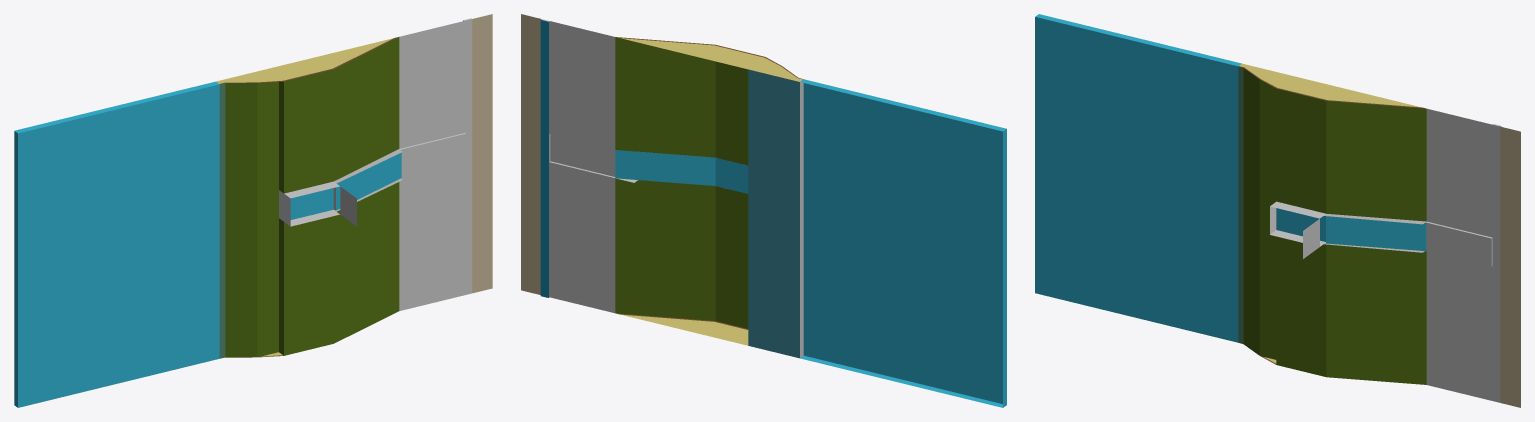
Rendered from ComCoast_During.obj.
The picture shows the model from 3 angles, left to right: view 1: azimuth 30°, elevation 25°; view 2: azimuth 150°, elevation 25°; view 3: azimuth 330°, elevation 25°; orthographic projection.
Visible parts, largest first — view 1: obj64, obj37, obj20, obj54, obj41, obj38, obj52, obj32, obj14, obj55, obj19, obj40 (+10 smaller); view 2: obj64, obj10, obj54, obj41, obj20, obj38, obj14, obj52, obj55, obj15, obj42, obj75 (+8 smaller); view 3: obj64, obj54, obj41, obj20, obj38, obj52, obj14, obj55, obj32, obj37, obj89, obj19 (+6 smaller).
Part boxes in pixels (x1,y1,x2,y2): obj64: [18, 84, 219, 407]; obj37: [225, 83, 257, 357]; obj20: [399, 162, 464, 310]; obj54: [333, 182, 399, 343]; obj41: [333, 37, 399, 180]; obj38: [399, 21, 464, 148]; obj52: [284, 216, 333, 355]; obj32: [257, 81, 278, 357]; obj14: [472, 14, 492, 293]; obj55: [284, 69, 333, 193]; obj19: [465, 19, 472, 294]; obj40: [219, 83, 225, 358]; obj64: [803, 83, 1002, 403]; obj10: [748, 69, 799, 358]; obj54: [615, 178, 715, 320]; obj41: [615, 37, 715, 157]; obj20: [549, 162, 615, 313]; obj38: [549, 21, 615, 149]; obj14: [521, 14, 541, 294]; obj52: [715, 186, 748, 328]; obj55: [715, 61, 748, 165]; obj15: [540, 20, 548, 297]; obj42: [621, 38, 802, 81]; obj75: [550, 134, 615, 176]; obj64: [1035, 17, 1238, 342]; obj54: [1326, 244, 1426, 384]; obj41: [1326, 101, 1426, 221]; obj20: [1426, 251, 1492, 400]; obj38: [1426, 108, 1492, 237]; obj52: [1276, 236, 1326, 376]; obj14: [1500, 126, 1520, 407]; obj55: [1276, 88, 1326, 213]; obj32: [1259, 80, 1276, 359]; obj37: [1243, 68, 1259, 355]; obj89: [1326, 216, 1425, 251]; obj19: [1492, 125, 1500, 402].
Bounding box in the file's own units: 2796 × 1532 × 417.
